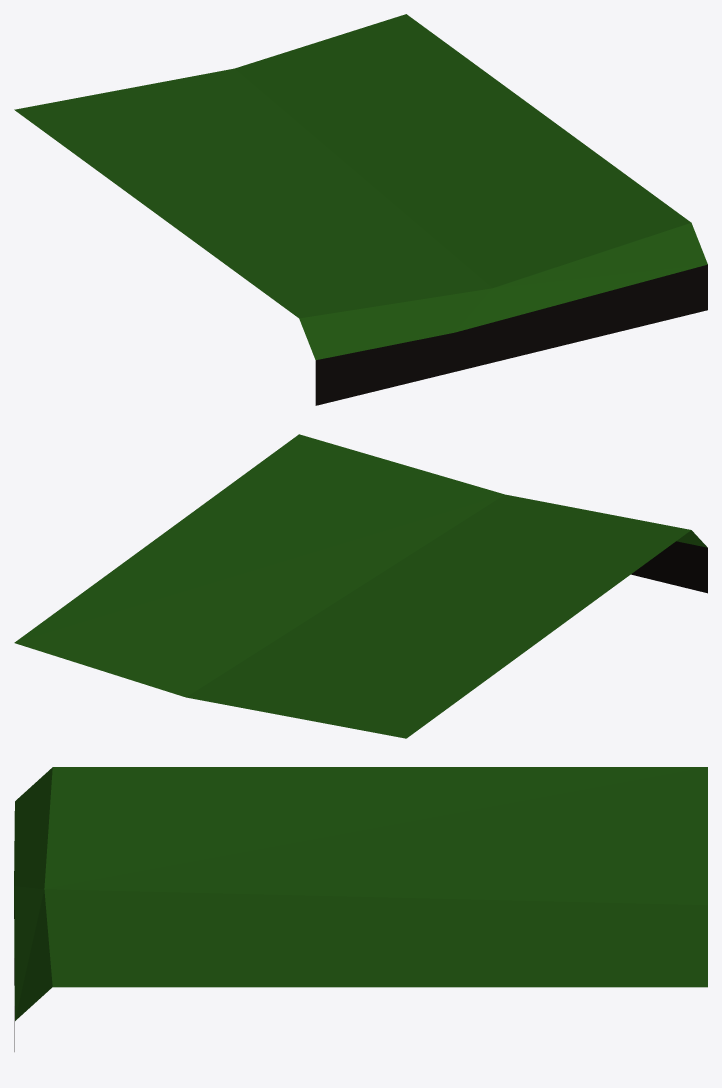
The model's file is 2D_Island_Top_1.fbx.
3 renders of one model, top to bottom at view 1: azimuth 30°, elevation 25°; view 2: azimuth 150°, elevation 25°; view 3: azimuth 270°, elevation 25°, orthographic. The views are drawn at different scales.
Parts seen in each view (by area): view 1: 2D_Island_Top_1; view 2: 2D_Island_Top_1; view 3: 2D_Island_Top_1.
Part boxes in pixels (<box>): 2D_Island_Top_1: <box>14,14,707,405</box>; 2D_Island_Top_1: <box>14,434,707,738</box>; 2D_Island_Top_1: <box>14,767,707,1051</box>.
Bounding box in the file's own units: 652 × 120 × 869.
